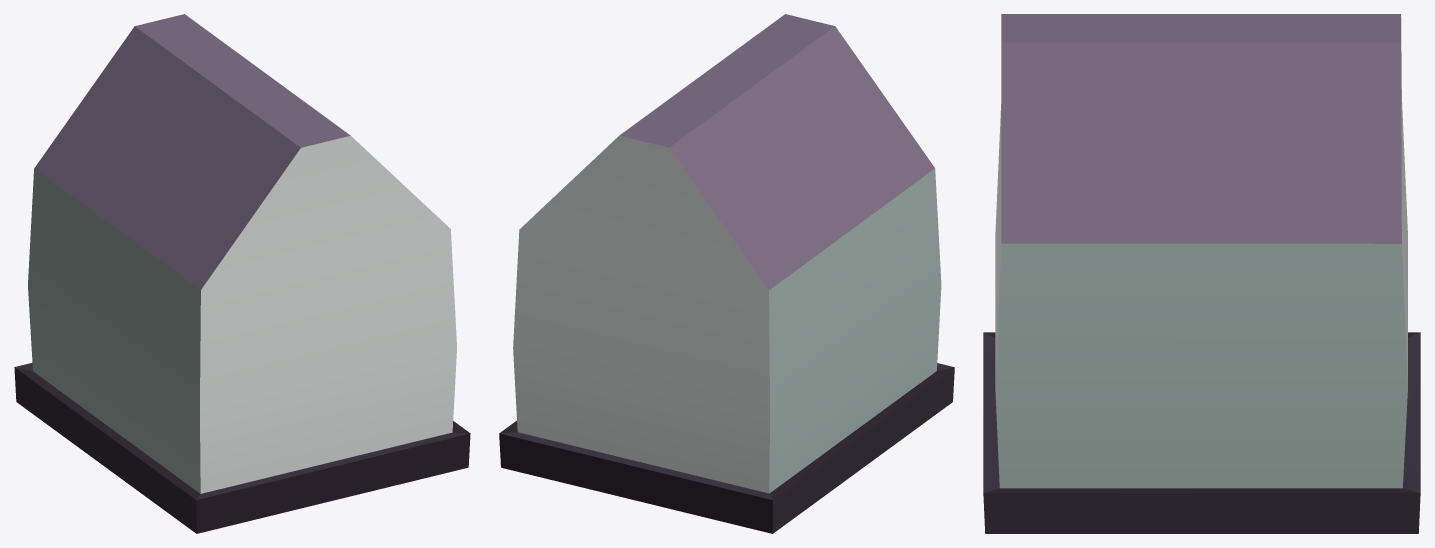
The model's file is House01_White_Black.glb.
3 views of the same model, side by side, from view 1: azimuth 30°, elevation 25°; view 2: azimuth 150°, elevation 25°; view 3: azimuth 270°, elevation 25° (orthographic). The views are drawn at different scales.
Visible parts, largest first — view 1: House01_White_Black; view 2: House01_White_Black; view 3: House01_White_Black.
Part boxes in pixels (x1,y1,x2,y2): House01_White_Black: (14,14,470,533); House01_White_Black: (499,14,954,533); House01_White_Black: (983,14,1420,533).
Bounding box in the file's own units: 2.04 × 2.51 × 2.34.
1 material, 1 textured.
